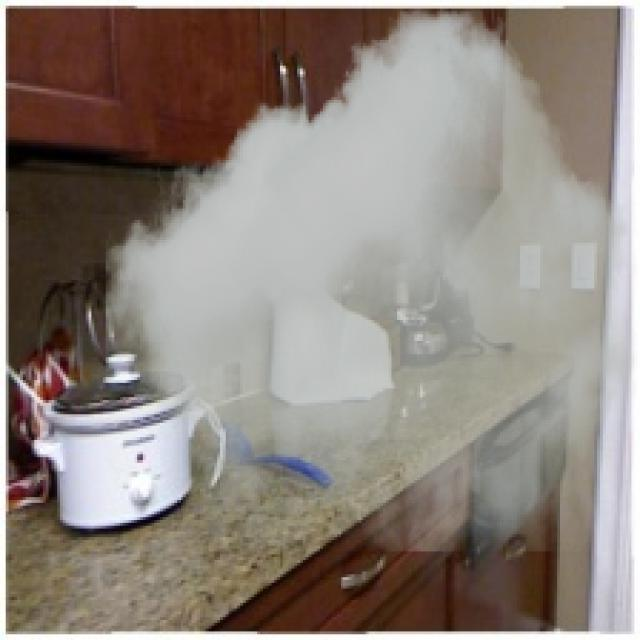Smoke: (105, 9, 638, 552)
